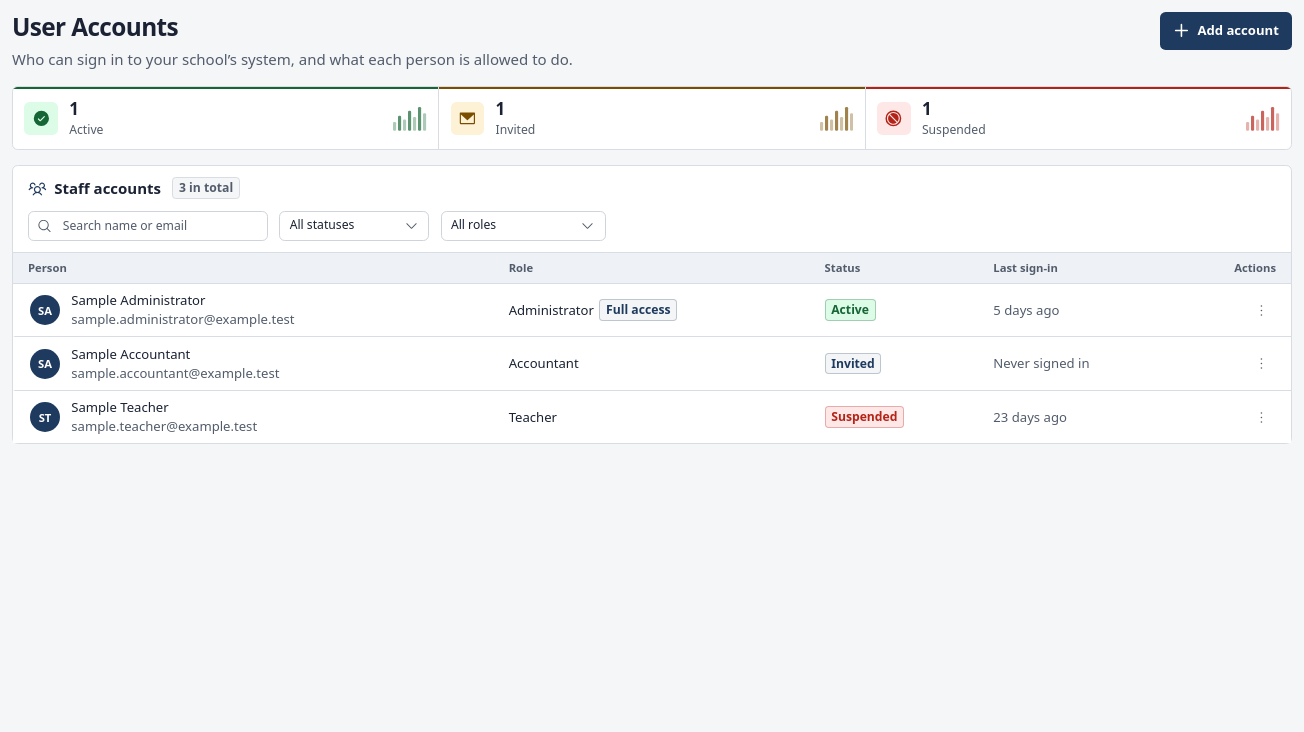
UsersPage › explains why an invited account cannot be sent a password reset
Expected: the link "Sample Accountant" is shown, [71,345,190,363]
What coordinates should you click on to do the following:
click the button named "Actions for Sample Accountant"
I would click on:
 (1261, 364)
Its box is [1246,349,1276,379].
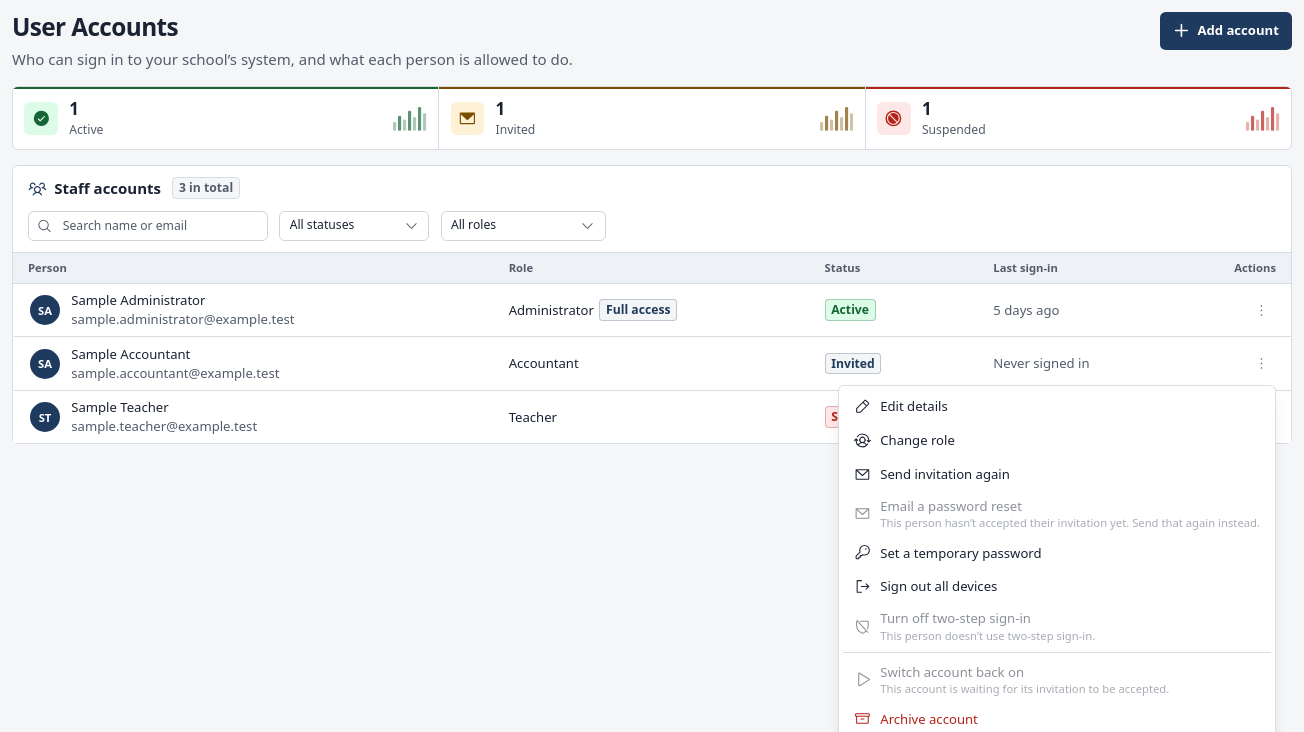
Expected: the menu item "Email a password reset" shows "hasn’t accepted their invitation yet", [843,491,1271,536]
